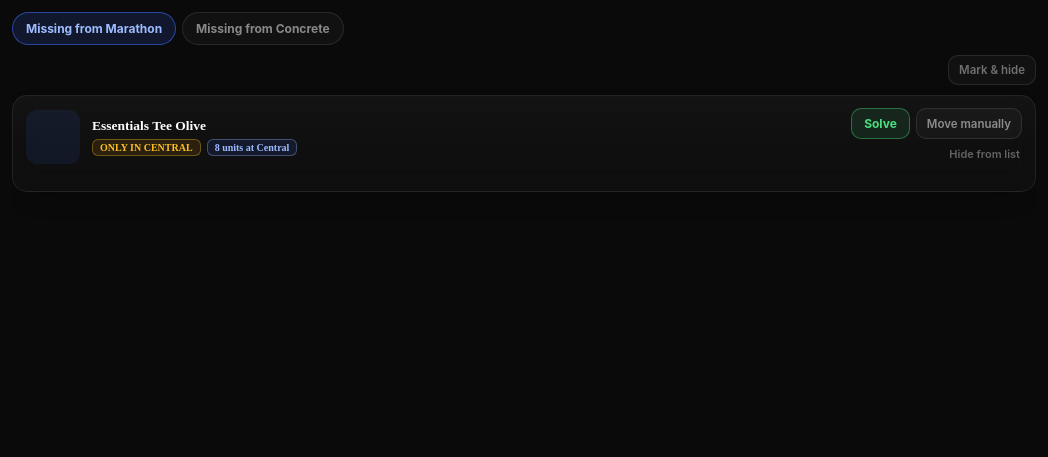
Test: Hub 2 presence at Solve time — an engine lock at Hub 2 is a pending inbound: the OLD path, no request (the incident's rule) › the confirm waits for the lock read: before it settles the button is gated and says so
The image size is (1048, 457).
Click the button "Solve": (880, 124) [851,108,910,139]
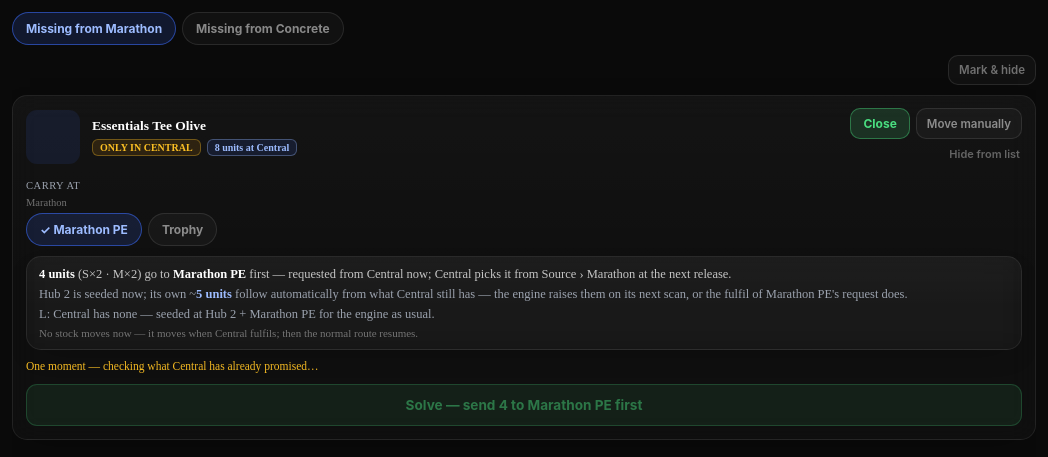
Now the text "One moment — checking what Central has already promised" is shown, box [26,360,318,372]
